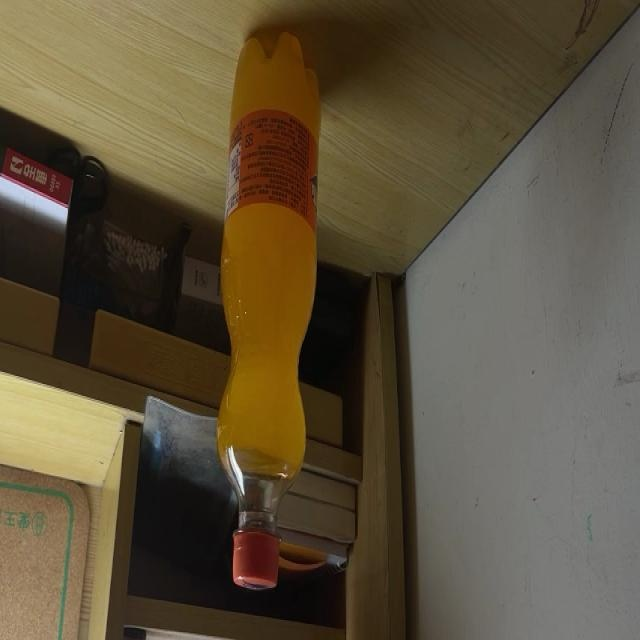Fanta: (220, 28, 319, 594)
